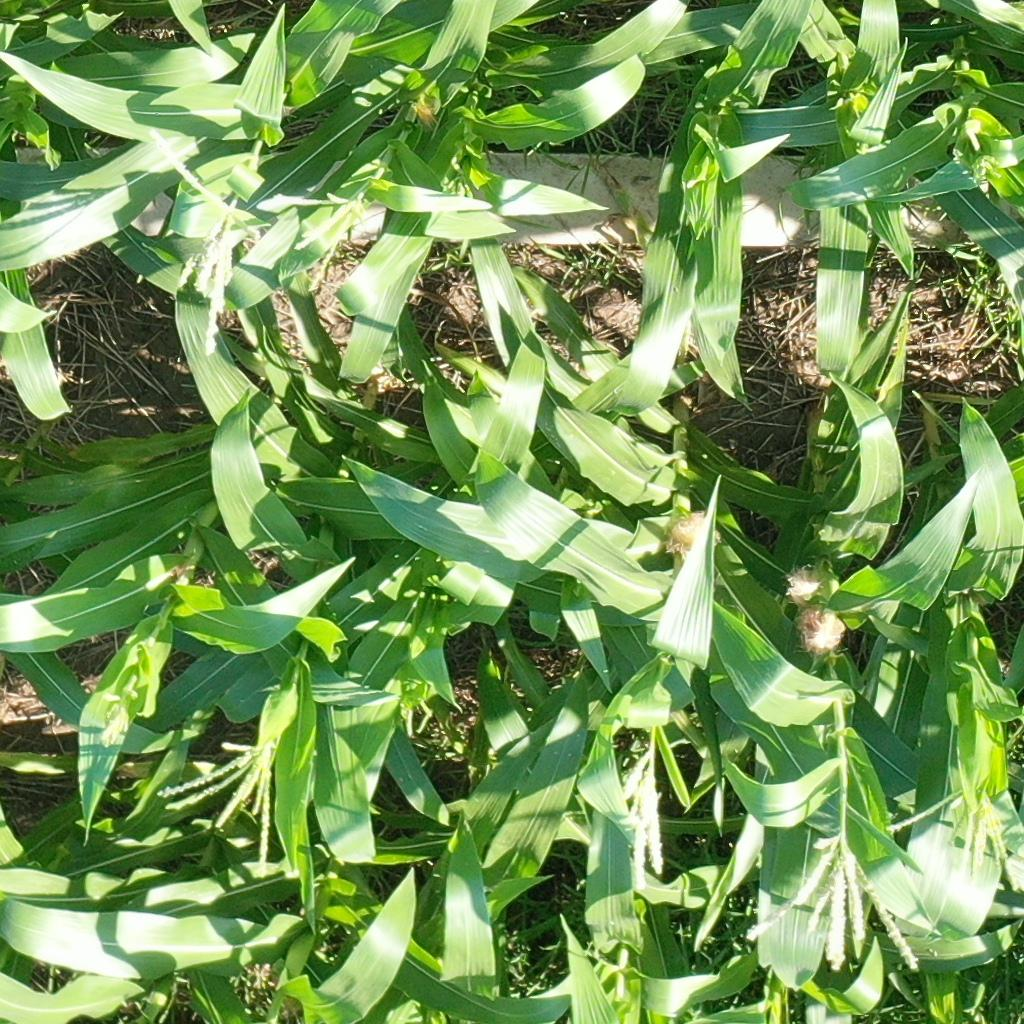Tassel: (146, 123, 261, 369), (744, 834, 926, 976), (156, 734, 282, 878), (882, 782, 1024, 894), (258, 182, 371, 295), (607, 745, 663, 892), (93, 675, 143, 750), (396, 690, 433, 738), (967, 150, 1002, 186)
